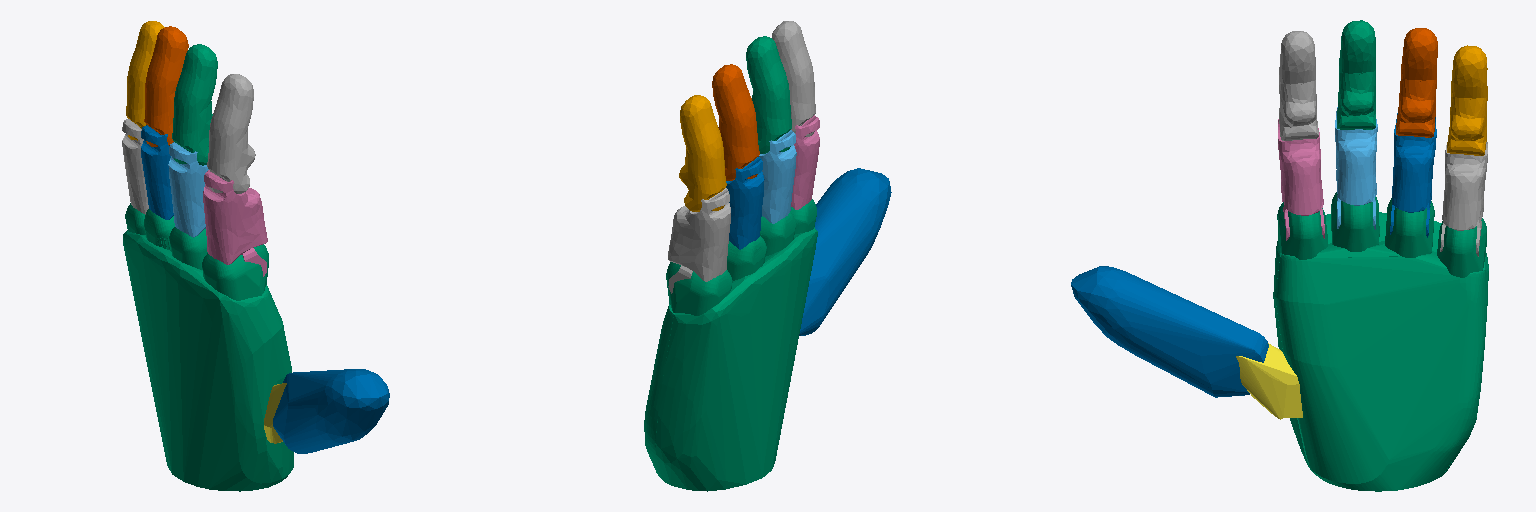
robot.urdf — ability_hand:
<robot name="ability_hand">
  <link name="base_link"/>
  <joint name="base_joint" type="fixed">
    <parent link="base_link"/>
    <child link="base"/>
    <origin xyz="0 0 0" rpy="0 0 -1.57079"/>
  </joint>
  <link name="base">
    <visual name="wrist_mesh">
      <origin rpy="0 0 0" xyz="0 0 0"/>
      <geometry>
        <mesh filename="meshes/visual/wristmesh.stl"/>
      </geometry>
    </visual>
    <collision>
      <origin xyz="0 0 0" rpy="0 0 0"/>
      <geometry>
        <mesh filename="meshes/collision/wristmesh_C.stl"/>
      </geometry>
    </collision>
    <inertial>  <!-- the mass and inertia here are NOT correct -->
      <mass value="0.200"/>
      <inertia ixx="978.26e-6" ixy="87.34e-6" ixz="322.99e-6" iyy="1244.78e-6" iyz="244.74e-6" izz="456.22e-6"/>
      <origin xyz="22.41911e-3 -0.15798201e-3 -0.01319866e-3" rpy="0 0 0"/>
    </inertial>
  </link>
  <joint name="wrist2thumb" type="fixed">
    <parent link="base"/>
    <child link="thumb_base"/>
    <origin xyz="24.0476665e-3 3.78124745e-3 32.32964923e-3" rpy="3.14148426 0.08848813 3.14036612"/>
  </joint>
  <link name="thumb_base">
    <inertial>
      <mass value="0.400"/>
      <inertia ixx="978.26e-6" ixy="87.34e-6" ixz="322.99e-6" iyy="1244.78e-6" iyz="244.74e-6" izz="456.22e-6"/>
      <origin xyz="22.41911e-3 -0.15798201e-3 -0.01319866e-3" rpy="0 0 0"/>
    </inertial>
    <visual name="palm_mesh">
      <origin rpy="0 0 0" xyz="0 0 0"/>
      <geometry>
        <mesh filename="meshes/visual/FB_palm_ref.stl"/>
      </geometry>
    </visual>
    <collision>                                  <!-- thumb_base -->
      <origin xyz="0 0 0" rpy="0 0 0"/>
      <geometry>
        <mesh filename="meshes/collision/FB_palm_ref.stl"/>
      </geometry>
    </collision>
  </link>
  <link name="thumb_L1">
    <inertial>
      <mass value="0.00268342"/>
      <inertia ixx="0.16931e-4" ixy="-0.076214e-4" ixz="-0.16959148e-4" iyy="0.77769934e-4" iyz="0.0156622e-4" izz="0.7249122e-4"/>
      <origin rpy="0 0 0" xyz="14.606e-3 -1.890854e-3 -3.1155356e-3"/>
    </inertial>
    <visual name="thumb_mesh_1">
      <origin xyz="27.8283501e-3 0 -14.7507000e-3" rpy="4.450589592585541 0 0"/>
      <geometry>
        <mesh filename="meshes/visual/thumb-F1.stl"/>
      </geometry>
    </visual>
    <collision>                            <!-- thumb_L1 -->
      <origin xyz="27.8283501e-3 0 -14.7507000e-3" rpy="4.450589592585541 0 0"/>
      <geometry>
        <mesh filename="meshes/collision/thumb-F1_C.stl"/>
      </geometry>
    </collision>
  </link>
  <link name="thumb_L2">
    <inertial>
      <mass value="0.0055"/>
      <inertia ixx="4.4789082e-4" ixy="4.4789082e-4" ixz="-0.62144934e-4" iyy="15.600996e-4" iyz="-0.07466143e-4" izz="17.908554e-4"/>
      <origin rpy="0 0 0" xyz="30.020522e-3 5.59476e-3 -4.1504356e-3"/>
    </inertial>
    <visual name="thumb_mesh_2">
      <origin xyz="65.18669e-3 23.34021e-3 -3.93483e-3" rpy="3.141592 0 0.343830"/>
      <geometry>
        <mesh filename="meshes/visual/thumb-F2.stl"/>
      </geometry>
    </visual>
    <collision>                            <!-- thumb_L2 -->
      <origin xyz="65.18669e-3 23.34021e-3 -3.93483e-3" rpy="3.141592 0 0.343830"/>
      <geometry>
        <mesh filename="meshes/collision/thumb-F2_C.stl"/>
      </geometry>
    </collision>
  </link>
  <joint name="thumb_q1" type="revolute">
    <parent link="thumb_base"/>
    <child link="thumb_L1"/>
    <origin xyz="0 0 0" rpy="0 0 3.330437"/>
    <axis xyz="0 0 1"/>
    <limit lower="-2.0943951" upper="0" effort="1.2" velocity="40.338888721"/>    <!-- angles in rad, efforts in N-m, velocity in rad/s -->
    <dynamics damping="0.001" friction="0.001"/>  <!-- Friction coefficient is not from quantitative measurement -->
  </joint>
  <joint name="thumb_q2" type="revolute">
    <parent link="thumb_L1"/>
    <child link="thumb_L2"/>
    <origin xyz="27.8283501e-3 0 -14.7507000e-3" rpy="4.450589592585541 0 0"/>
    <axis xyz="0 0 1"/>
    <limit lower="0" upper="2.0943951" effort="6.0" velocity="8.0677777442"/>    <!-- angles in rad, efforts in N-m, velocity in rad/s -->
    <dynamics damping="0.001" friction="0.001"/>  <!-- Friction coefficient is not from quantitative measurement -->
  </joint>
  <link name="thumb_tip"/>
  <joint name="thumb_tip_joint" type="fixed">
    <parent link="thumb_L2"/>
    <child link="thumb_tip"/>
    <origin rpy="0 0 0" xyz="0.065 0.016 0"/>
  </joint>
  <link name="index_L1">
    <inertial>
      <mass value="0.00635888"/>
      <inertia ixx="0.29766e-4" ixy="-0.06447133e-4" ixz="-0.00423315e-4" iyy="3.6947967e-4" iyz="0.00083028e-4" izz="3.8176336e-4"/>
      <origin xyz="22.41911e-3 -0.15798201e-3 -0.01319866e-3" rpy="0 0 0"/>
    </inertial>
    <visual name="index_mesh_1">
      <origin xyz="38.472723e-3 3.257695e-3 0.000000" rpy="0 0 0.084474"/>
      <geometry>
        <mesh filename="meshes/visual/idx-F1.stl"/>
      </geometry>
    </visual>
    <collision>                                  <!-- index_L1 -->
      <origin xyz="0.036 -0.00175 0" rpy="0 0 0"/>
      <geometry>
        <sphere radius="0.0085"/>
      </geometry>
    </collision>
    <collision>
      <origin xyz="0.019 -0.0045 0" rpy="0 0 0.0845"/>
      <geometry>
        <box size="0.028 0.012 0.016"/>
      </geometry>
    </collision>
    <collision>
      <origin xyz="0.018 0.006 0" rpy="0 0 0.0845"/>
      <geometry>
        <box size="0.02 0.01 0.016"/>
      </geometry>
    </collision>
    <collision>
      <origin xyz="-0.001 0 0.007" rpy="0 0 0.0845"/>
      <geometry>
        <box size="0.012 0.012 0.002"/>
      </geometry>
    </collision>
    <collision>
      <origin xyz="-0.001 0 -0.007" rpy="0 0 0.0845"/>
      <geometry>
        <box size="0.012 0.012 0.002"/>
      </geometry>
    </collision>
  </link>
  <link name="index_L2">
    <inertial>
      <mass value="0.00645"/>
      <inertia ixx="0.82671e-4" ixy="-1.08876e-4" ixz="-0.00037e-4" iyy="1.98028e-4" iyz="0.00081e-4" izz="2.64638e-4"/>
      <origin rpy="0 0 0" xyz="13.36818e-3 -8.75392e-3 -0.02886e-3"/>
    </inertial>
    <visual name="index_mesh_2">
      <origin rpy="0 0 0" xyz="9.1241e-3 0 0"/>
      <geometry>
        <mesh filename="meshes/visual/idx-F2.stl"/>
      </geometry>
    </visual>
    <collision>                            <!-- index_L2 -->
      <origin xyz="0 0 0" rpy="0 0 0"/>
      <geometry>
        <mesh filename="meshes/collision/idx-F2_C.stl"/>
      </geometry>
    </collision>
    <collision>
      <origin xyz="0.03 -0.016 0" rpy="0 0 0"/>
      <geometry>
        <sphere radius="0.007"/>
      </geometry>
    </collision>
  </link>
  <joint name="index_q1" type="revolute">
    <parent link="thumb_base"/>
    <child link="index_L1"/>
    <origin xyz="-9.49e-3 -13.04e-3 -62.95e-3" rpy="-1.982050 1.284473 -2.090591"/>
    <axis xyz="0 0 1"/>
    <limit lower="0" upper="2.0943951" effort="6.0" velocity="8.0677777442"/>    <!-- angles in rad, efforts in N-m, velocity in rad/s -->
    <dynamics damping="0.001" friction="0.001"/>  <!-- Friction coefficient is not from quantitative measurement -->
  </joint>
  <joint name="index_q2" type="revolute">
    <parent link="index_L1"/>
    <child link="index_L2"/>
    <origin xyz="38.472723e-3 3.257695e-3 0.000000e-3" rpy="0 0 0.084474"/>
    <axis xyz="0 0 1"/>
    <limit lower="0.0" upper="2.6586" effort="6.0" velocity="8.0677777442"/>    <!-- angles in rad, efforts in N-m, velocity in rad/s -->
    <dynamics damping="0.001" friction="0.001"/>  <!-- Friction coefficient is not from quantitative measurement -->
    <mimic joint="index_q1" multiplier="1.05851325" offset="0.72349796"/>
  </joint>
  <link name="index_tip"/>
  <joint name="index_tip_joint" type="fixed">
    <parent link="index_L2"/>
    <child link="index_tip"/>
    <origin rpy="0 0 0" xyz="0.035  -0.018 0"/>
  </joint>
  <link name="middle_L1">
    <inertial>
      <mass value="0.00635888"/>
      <inertia ixx="0.29766e-4" ixy="-0.06447133e-4" ixz="-0.00423315e-4" iyy="3.6947967e-4" iyz="0.00083028e-4" izz="3.8176336e-4"/>
      <origin xyz="22.41911e-3 -0.15798201e-3 -0.01319866e-3" rpy="0 0 0"/>
    </inertial>
    <visual name="middle_mesh_1">
      <origin xyz="38.472723e-3 3.257695e-3 0.000000" rpy="0 0 0.084474"/>
      <geometry>
        <mesh filename="meshes/visual/idx-F1.stl"/>
      </geometry>
    </visual>
    <collision>                                  <!-- middle_L1 -->
      <origin xyz="0.036 -0.00175 0" rpy="0 0 0"/>
      <geometry>
        <sphere radius="0.0085"/>
      </geometry>
    </collision>
    <collision>
      <origin xyz="0.019 -0.0045 0" rpy="0 0 0.0845"/>
      <geometry>
        <box size="0.028 0.012 0.016"/>
      </geometry>
    </collision>
    <collision>
      <origin xyz="0.018 0.006 0" rpy="0 0 0.0845"/>
      <geometry>
        <box size="0.02 0.01 0.016"/>
      </geometry>
    </collision>
    <collision>
      <origin xyz="-0.001 0 0.007" rpy="0 0 0.0845"/>
      <geometry>
        <box size="0.012 0.012 0.002"/>
      </geometry>
    </collision>
    <collision>
      <origin xyz="-0.001 0 -0.007" rpy="0 0 0.0845"/>
      <geometry>
        <box size="0.012 0.012 0.002"/>
      </geometry>
    </collision>
  </link>
  <link name="middle_L2">
    <inertial>
      <mass value="0.00645"/>
      <inertia ixx="0.82671e-4" ixy="-1.08876e-4" ixz="-0.00037e-4" iyy="1.98028e-4" iyz="0.00081e-4" izz="2.64638e-4"/>
      <origin rpy="0 0 0" xyz="13.36818e-3 -8.75392e-3 -0.02886e-3"/>
    </inertial>
    <visual name="middle_mesh_2">
      <origin rpy="0 0 0" xyz="9.1241e-3 0 0"/>
      <geometry>
        <mesh filename="meshes/visual/idx-F2.stl"/>
      </geometry>
    </visual>
    <collision>                            <!-- middle_L2 -->
      <origin xyz="0 0 0" rpy="0 0 0"/>
      <geometry>
        <mesh filename="meshes/collision/idx-F2_C.stl"/>
      </geometry>
    </collision>
    <collision>
      <origin xyz="0.03 -0.016 0" rpy="0 0 0"/>
      <geometry>
        <sphere radius="0.007"/>
      </geometry>
    </collision>
  </link>
  <joint name="middle_q1" type="revolute">
    <parent link="thumb_base"/>
    <child link="middle_L1"/>
    <origin xyz="9.653191e-3 -15.310271e-3 -67.853949e-3" rpy="-1.860531 1.308458 -1.896217"/>
    <limit lower="0" upper="2.0943951" effort="6.0" velocity="8.0677777442"/>    <!-- angles in rad, efforts in N-m, velocity in rad/s -->
    <dynamics damping="0.001" friction="0.001"/>  <!-- Friction coefficient is not from quantitative measurement -->
    <axis xyz="0 0 1"/>
  </joint>
  <joint name="middle_q2" type="revolute">
    <parent link="middle_L1"/>
    <child link="middle_L2"/>
    <origin xyz="38.472723e-3 3.257695e-3 0.000000" rpy="0 0 0.084474"/>
    <axis xyz="0 0 1"/>
    <limit lower="0.0" upper="2.6586" effort="6.0" velocity="8.0677777442"/>    <!-- angles in rad, efforts in N-m, velocity in rad/s -->
    <dynamics damping="0.001" friction="0.001"/>  <!-- Friction coefficient is not from quantitative measurement -->
    <mimic joint="middle_q1" multiplier="1.05851325" offset="0.72349796"/>
  </joint>
  <link name="middle_tip"/>
  <joint name="middle_tip_joint" type="fixed">
    <parent link="middle_L2"/>
    <child link="middle_tip"/>
    <origin rpy="0 0 0" xyz="0.035  -0.018 0"/>
  </joint>
  <link name="ring_L1">
    <inertial>
      <mass value="0.00635888"/>
      <inertia ixx="0.29766e-4" ixy="-0.06447133e-4" ixz="-0.00423315e-4" iyy="3.6947967e-4" iyz="0.00083028e-4" izz="3.8176336e-4"/>
      <origin xyz="22.41911e-3 -0.15798201e-3 -0.01319866e-3" rpy="0 0 0"/>
    </inertial>
    <visual name="ring_mesh_1">
      <origin xyz="38.472723e-3 3.257695e-3 0.000000" rpy="0 0 0.084474"/>
      <geometry>
        <mesh filename="meshes/visual/idx-F1.stl"/>
      </geometry>
    </visual>
    <collision>                                  <!-- ring_L1 -->
      <origin xyz="0.036 -0.00175 0" rpy="0 0 0"/>
      <geometry>
        <sphere radius="0.0085"/>
      </geometry>
    </collision>
    <collision>
      <origin xyz="0.019 -0.0045 0" rpy="0 0 0.0845"/>
      <geometry>
        <box size="0.028 0.012 0.016"/>
      </geometry>
    </collision>
    <collision>
      <origin xyz="0.018 0.006 0" rpy="0 0 0.0845"/>
      <geometry>
        <box size="0.02 0.01 0.016"/>
      </geometry>
    </collision>
    <collision>
      <origin xyz="-0.001 0 0.007" rpy="0 0 0.0845"/>
      <geometry>
        <box size="0.012 0.012 0.002"/>
      </geometry>
    </collision>
    <collision>
      <origin xyz="-0.001 0 -0.007" rpy="0 0 0.0845"/>
      <geometry>
        <box size="0.012 0.012 0.002"/>
      </geometry>
    </collision>
  </link>
  <link name="ring_L2">
    <inertial>
      <mass value="0.00645"/>
      <inertia ixx="0.82671e-4" ixy="-1.08876e-4" ixz="-0.00037e-4" iyy="1.98028e-4" iyz="0.00081e-4" izz="2.64638e-4"/>
      <origin rpy="0 0 0" xyz="13.36818e-3 -8.75392e-3 -0.02886e-3"/>
    </inertial>
    <visual name="ring_mesh_2">
      <origin rpy="0 0 0" xyz="9.1241e-3 0 0"/>
      <geometry>
        <mesh filename="meshes/visual/idx-F2.stl"/>
      </geometry>
    </visual>
    <collision>                            <!-- ring_L2 -->
      <origin xyz="0 0 0" rpy="0 0 0"/>
      <geometry>
        <mesh filename="meshes/collision/idx-F2_C.stl"/>
      </geometry>
    </collision>
    <collision>
      <origin xyz="0.03 -0.016 0" rpy="0 0 0"/>
      <geometry>
        <sphere radius="0.007"/>
      </geometry>
    </collision>
  </link>
  <joint name="ring_q1" type="revolute">
    <parent link="thumb_base"/>
    <child link="ring_L1"/>
    <origin xyz="29.954260e-3 -14.212492e-3 -67.286105e-3" rpy="-1.716598 1.321452 -1.675862"/>
    <limit lower="0" upper="2.0943951" effort="6.0" velocity="8.0677777442"/>    <!-- angles in rad, efforts in N-m, velocity in rad/s -->
    <dynamics damping="0.001" friction="0.001"/>  <!-- Friction coefficient is not from quantitative measurement -->
    <axis xyz="0 0 1"/>
  </joint>
  <joint name="ring_q2" type="revolute">
    <parent link="ring_L1"/>
    <child link="ring_L2"/>
    <origin xyz="38.472723e-3 3.257695e-3 0.000000" rpy="0 0 0.084474"/>
    <axis xyz="0 0 1"/>
    <limit lower="0.0" upper="2.6586" effort="6.0" velocity="8.0677777442"/>    <!-- angles in rad, efforts in N-m, velocity in rad/s -->
    <dynamics damping="0.001" friction="0.001"/>  <!-- Friction coefficient is not from quantitative measurement -->
    <mimic joint="ring_q1" multiplier="1.05851325" offset="0.72349796"/>
  </joint>
  <link name="ring_tip"/>
  <joint name="ring_tip_joint" type="fixed">
    <parent link="ring_L2"/>
    <child link="ring_tip"/>
    <origin rpy="0 0 0" xyz="0.035  -0.018 0"/>
  </joint>
  <link name="pinky_L1">
    <inertial>
      <mass value="0.00635888"/>
      <inertia ixx="0.29766e-4" ixy="-0.06447133e-4" ixz="-0.00423315e-4" iyy="3.6947967e-4" iyz="0.00083028e-4" izz="3.8176336e-4"/>
      <origin xyz="22.41911e-3 -0.15798201e-3 -0.01319866e-3" rpy="0 0 0"/>
    </inertial>
    <visual name="pinky_mesh_1">
      <origin xyz="38.472723e-3 3.257695e-3 0.000000" rpy="0 0 0.084474"/>
      <geometry>
        <mesh filename="meshes/visual/idx-F1.stl"/>
      </geometry>
    </visual>
    <collision>                                  <!-- pinky_L1 -->
      <origin xyz="0.036 -0.00175 0" rpy="0 0 0"/>
      <geometry>
        <sphere radius="0.0085"/>
      </geometry>
    </collision>
    <collision>
      <origin xyz="0.019 -0.0045 0" rpy="0 0 0.0845"/>
      <geometry>
        <box size="0.028 0.012 0.016"/>
      </geometry>
    </collision>
    <collision>
      <origin xyz="0.018 0.006 0" rpy="0 0 0.0845"/>
      <geometry>
        <box size="0.02 0.01 0.016"/>
      </geometry>
    </collision>
    <collision>
      <origin xyz="-0.001 0 0.007" rpy="0 0 0.0845"/>
      <geometry>
        <box size="0.012 0.012 0.002"/>
      </geometry>
    </collision>
    <collision>
      <origin xyz="-0.001 0 -0.007" rpy="0 0 0.0845"/>
      <geometry>
        <box size="0.012 0.012 0.002"/>
      </geometry>
    </collision>
  </link>
  <link name="pinky_L2">
    <inertial>
      <mass value="0.00645"/>
      <inertia ixx="0.82671e-4" ixy="-1.08876e-4" ixz="-0.00037e-4" iyy="1.98028e-4" iyz="0.00081e-4" izz="2.64638e-4"/>
      <origin rpy="0 0 0" xyz="13.36818e-3 -8.75392e-3 -0.02886e-3"/>
    </inertial>
    <visual name="pinky_mesh_2">
      <origin rpy="0 0 0" xyz="9.1241e-3 0 0"/>
      <geometry>
        <mesh filename="meshes/visual/idx-F2.stl"/>
      </geometry>
    </visual>
    <collision>                            <!-- pinky_L2 -->
      <origin xyz="0 0 0" rpy="0 0 0"/>
      <geometry>
        <mesh filename="meshes/collision/idx-F2_C.stl"/>
      </geometry>
    </collision>
    <collision>
      <origin xyz="0.03 -0.016 0" rpy="0 0 0"/>
      <geometry>
        <sphere radius="0.007"/>
      </geometry>
    </collision>
  </link>
  <joint name="pinky_q1" type="revolute">
    <parent link="thumb_base"/>
    <child link="pinky_L1"/>
    <origin xyz="49.521293e-3 -11.004583e-3 -63.029065e-3" rpy="-1.765110 1.322220 -1.658383"/>
    <limit lower="0" upper="2.0943951" effort="6.0" velocity="8.0677777442"/>    <!-- angles in rad, efforts in N-m, velocity in rad/s -->
    <dynamics damping="0.001" friction="0.001"/>  <!-- Friction coefficient is not from quantitative measurement -->
    <axis xyz="0 0 1"/>
  </joint>
  <joint name="pinky_q2" type="revolute">
    <parent link="pinky_L1"/>
    <child link="pinky_L2"/>
    <origin xyz="38.472723e-3 3.257695e-3 0.000000" rpy="0 0 0.084474"/>
    <limit lower="0.0" upper="2.6586" effort="6.0" velocity="8.0677777442"/>    <!-- angles in rad, efforts in N-m, velocity in rad/s -->
    <dynamics damping="0.001" friction="0.001"/>  <!-- Friction coefficient is not from quantitative measurement -->
    <axis xyz="0 0 1"/>
    <mimic joint="pinky_q1" multiplier="1.05851325" offset="0.72349796"/>
  </joint>
  <link name="pinky_tip"/>
  <joint name="pinky_tip_joint" type="fixed">
    <parent link="pinky_L2"/>
    <child link="pinky_tip"/>
    <origin rpy="0 0 0" xyz="0.035  -0.018 0"/>
  </joint>
</robot>

--- Render facts (derived) ---
The picture shows the robot from 3 angles, left to right: view 1: azimuth 30°, elevation 25°; view 2: azimuth 150°, elevation 25°; view 3: azimuth 270°, elevation 25°; orthographic projection.
Robot: ability_hand — 18 links, 17 joints (10 revolute, 7 fixed); root link base_link; default pose: every joint at zero.
Links seen in each view (by area): view 1: thumb_base, thumb_L2, index_L1, index_L2, middle_L2, ring_L2, middle_L1, ring_L1, pinky_L2, pinky_L1, thumb_L1; view 2: thumb_base, thumb_L2, pinky_L1, pinky_L2, ring_L2, middle_L2, index_L2, ring_L1, middle_L1, index_L1; view 3: thumb_base, thumb_L2, middle_L2, index_L2, pinky_L2, ring_L2, index_L1, pinky_L1, middle_L1, ring_L1, thumb_L1.
Boxes of the visible links, x1,y1,x2,y2 form: thumb_base: [123, 203, 293, 491]; thumb_L2: [273, 369, 389, 453]; index_L1: [203, 170, 267, 276]; index_L2: [207, 74, 255, 193]; middle_L2: [172, 44, 217, 165]; ring_L2: [144, 26, 188, 146]; middle_L1: [168, 142, 208, 237]; ring_L1: [141, 125, 173, 219]; pinky_L2: [126, 21, 164, 140]; pinky_L1: [122, 119, 148, 214]; thumb_L1: [264, 383, 286, 443]; thumb_base: [644, 199, 817, 491]; thumb_L2: [799, 168, 891, 335]; pinky_L1: [668, 188, 730, 293]; pinky_L2: [679, 95, 726, 211]; ring_L2: [712, 64, 759, 180]; middle_L2: [746, 36, 791, 153]; index_L2: [772, 21, 815, 136]; ring_L1: [726, 157, 764, 249]; middle_L1: [759, 130, 796, 223]; index_L1: [791, 115, 819, 209]; thumb_base: [1273, 192, 1488, 491]; thumb_L2: [1071, 266, 1268, 397]; middle_L2: [1337, 20, 1375, 129]; index_L2: [1279, 31, 1318, 140]; pinky_L2: [1447, 45, 1487, 155]; ring_L2: [1396, 28, 1437, 137]; index_L1: [1278, 119, 1324, 240]; pinky_L1: [1440, 142, 1487, 256]; middle_L1: [1335, 107, 1377, 229]; ring_L1: [1390, 113, 1436, 237]; thumb_L1: [1236, 343, 1302, 419].
Bounding box of the posed robot: 0.053 × 0.1565 × 0.1778 m (x, y, z).
Meshes: 6 distinct files referenced, 12 mesh visuals loaded (6 binary STL).
